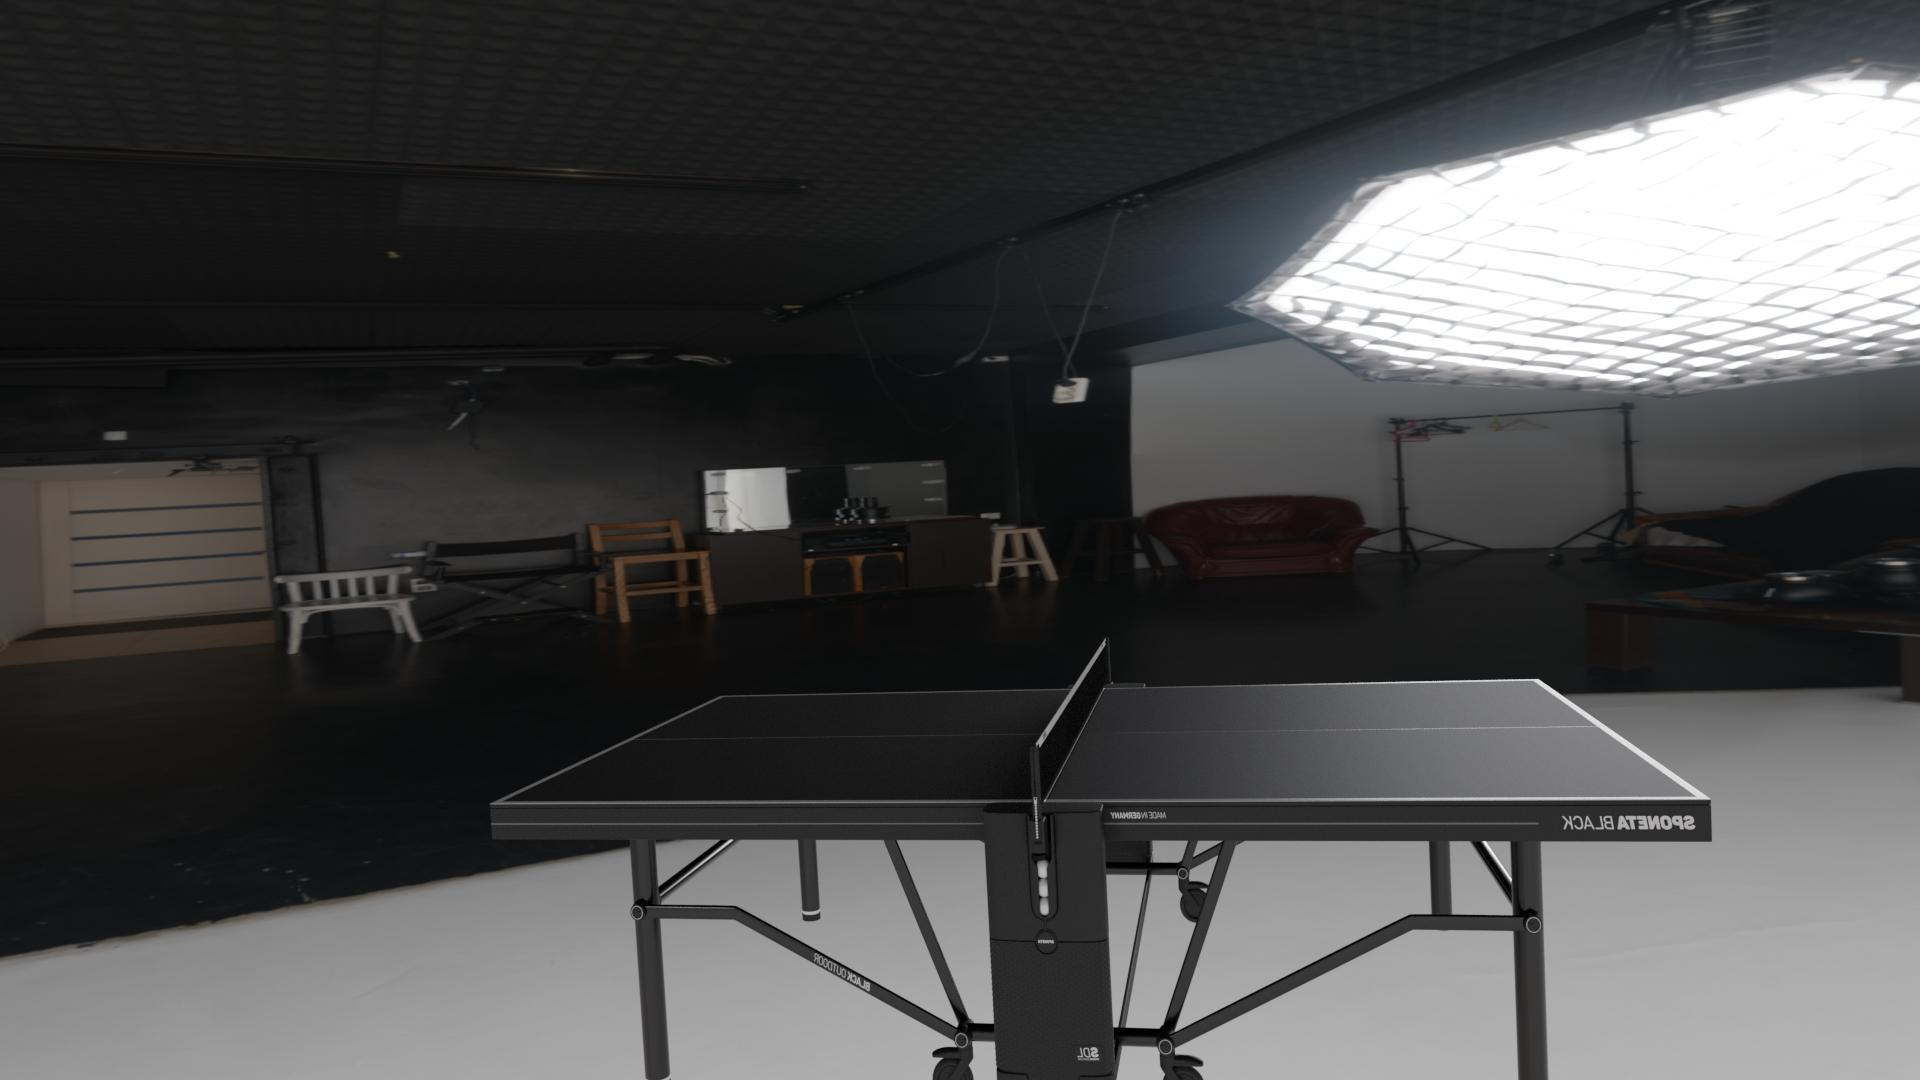table: (501, 680, 1697, 802)
